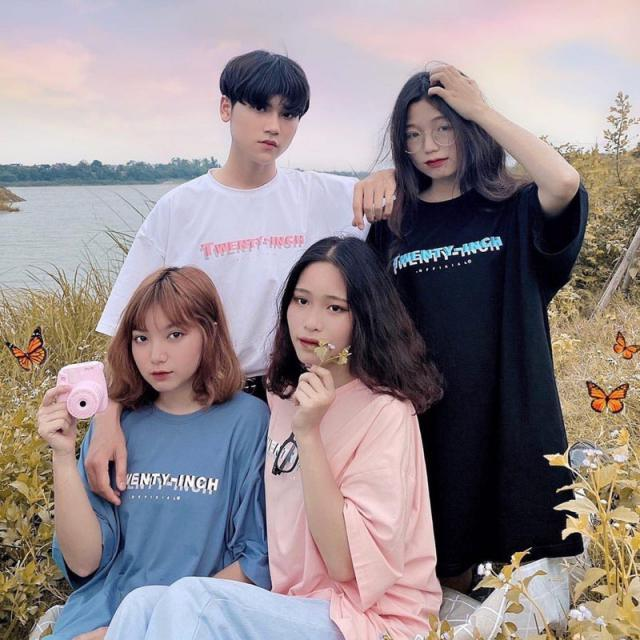Shirt: (361, 180, 596, 556), (98, 156, 376, 366), (262, 376, 446, 640), (61, 389, 265, 617)
